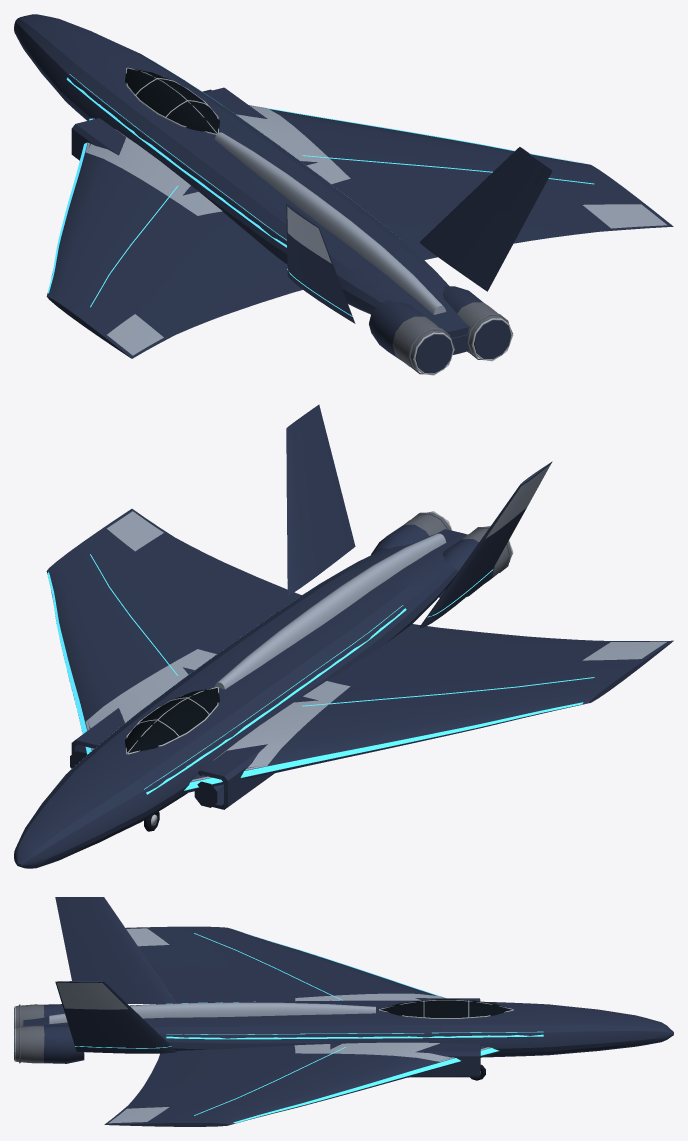
The model's file is game.glb.
3 renders of one model, top to bottom at view 1: azimuth 30°, elevation 25°; view 2: azimuth 150°, elevation 25°; view 3: azimuth 270°, elevation 25°, orthographic. The views are drawn at different scales.
Visible parts, largest first — view 1: game_body_Paint_Base, game_body_Paint_Secondary, game_body_Canopy_Glass_Dark, game_body_Glow_Emit, game_body_Metal_Heat, game_body_Metal_Detail; view 2: game_body_Paint_Base, game_body_Paint_Secondary, game_body_Glow_Emit, game_body_Canopy_Glass_Dark, game_body_Metal_Heat; view 3: game_body_Paint_Base, game_body_Paint_Secondary, game_body_Glow_Emit, game_body_Canopy_Glass_Dark, game_body_Metal_Heat, game_body_Metal_Detail.
Boxes of the visible parts, x1,y1,x2,y2 form: game_body_Paint_Base: [14, 14, 673, 373]; game_body_Paint_Secondary: [85, 105, 667, 355]; game_body_Canopy_Glass_Dark: [125, 68, 219, 133]; game_body_Glow_Emit: [47, 56, 594, 316]; game_body_Metal_Heat: [392, 302, 508, 374]; game_body_Metal_Detail: [126, 67, 513, 375]; game_body_Paint_Base: [14, 404, 673, 868]; game_body_Paint_Secondary: [85, 464, 666, 781]; game_body_Glow_Emit: [47, 554, 594, 794]; game_body_Canopy_Glass_Dark: [125, 688, 219, 752]; game_body_Metal_Heat: [403, 512, 511, 582]; game_body_Paint_Base: [14, 897, 673, 1126]; game_body_Paint_Secondary: [49, 928, 490, 1123]; game_body_Glow_Emit: [75, 933, 543, 1123]; game_body_Canopy_Glass_Dark: [380, 999, 512, 1017]; game_body_Metal_Heat: [15, 1004, 44, 1063]; game_body_Metal_Detail: [14, 1000, 513, 1061].
Bounding box in the file's own units: 15.2 × 5.29 × 21.6.
